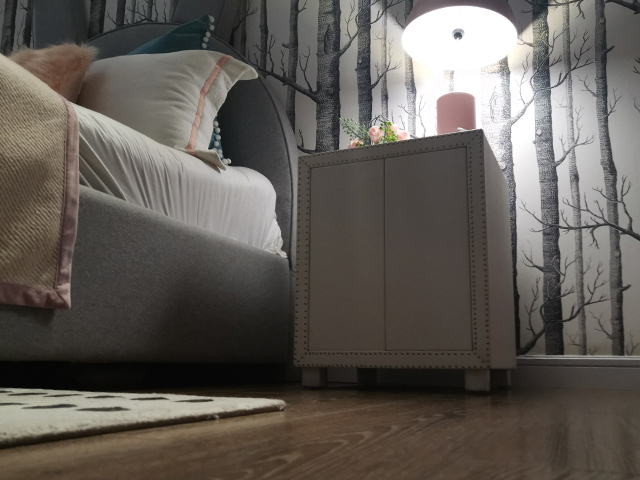bed: (1, 13, 299, 384)
cabinet: (290, 127, 519, 395)
carpet: (1, 385, 287, 450)
